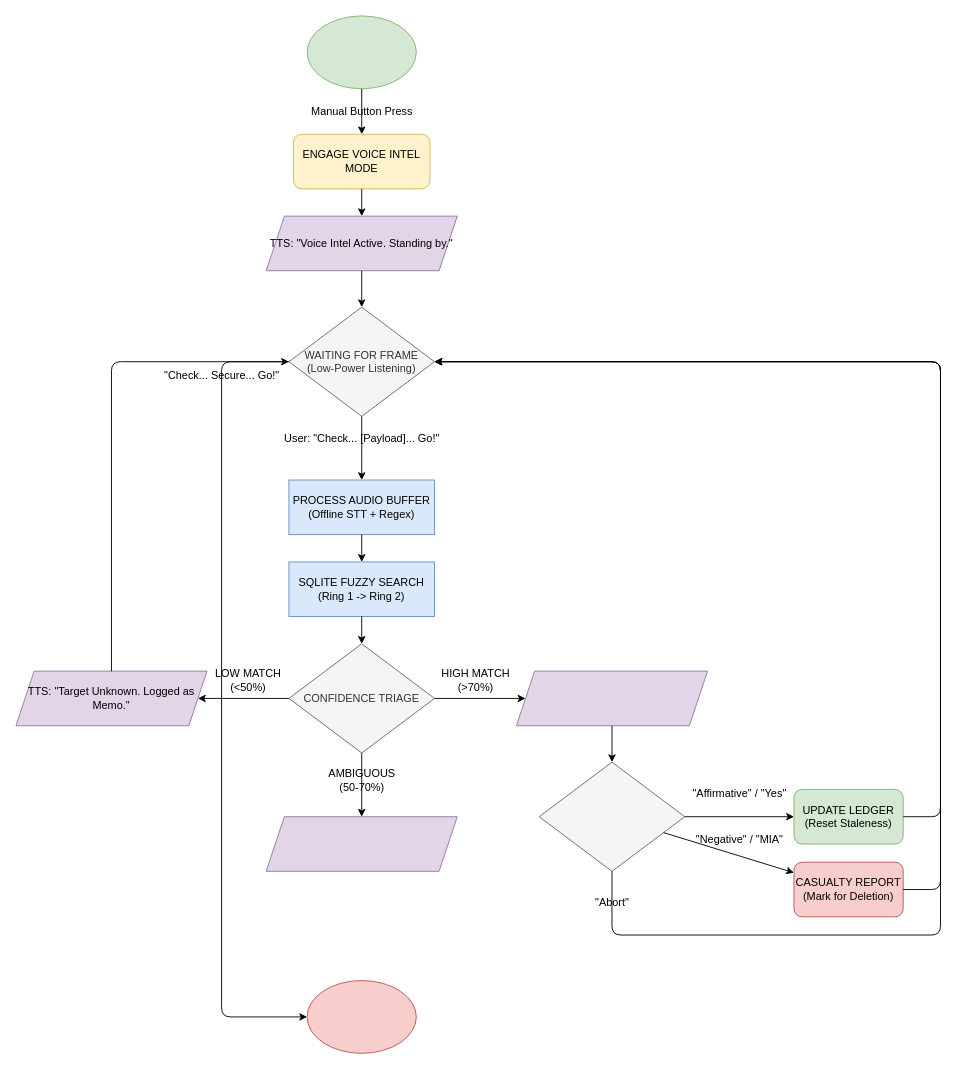
This 964x1069 diagram has some shape labels left out. The shapes that lost their labels are listed below. From the top down, each one's centre as x and y in pixels, then its label:
(x=361, y=52): START SESSION
(x=612, y=698): TTS: "Found [Brand] [Name]. Confirm?"
(x=611, y=816): USER VERIFICATION
(x=361, y=843): TTS: "Multiple matches. Which one?"
(x=361, y=1016): SECURE SESSION
